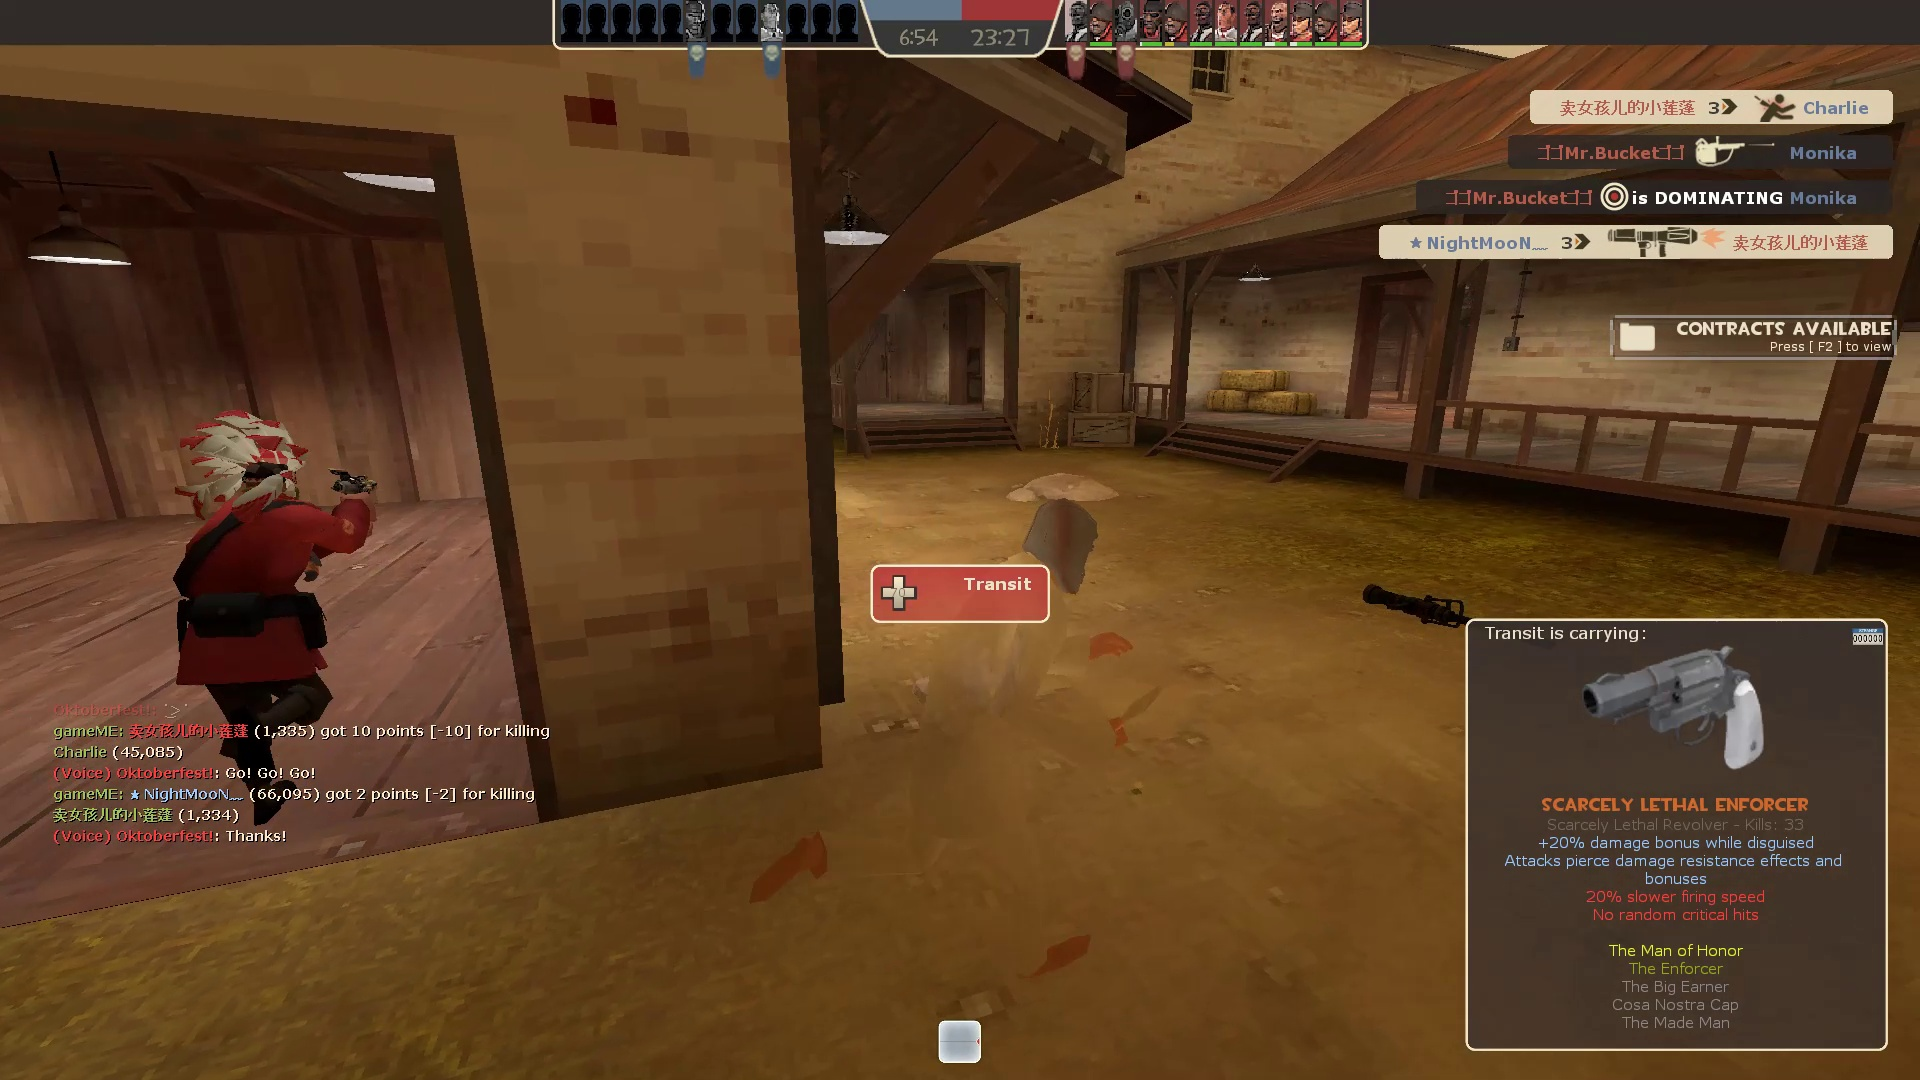red_soldier: (133, 410, 411, 847)
